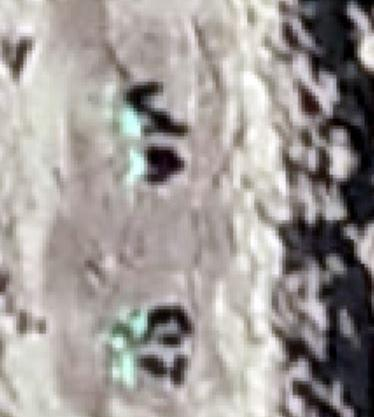cotton: (114, 352, 138, 384), (122, 107, 146, 136), (124, 309, 146, 334), (128, 152, 147, 178)
